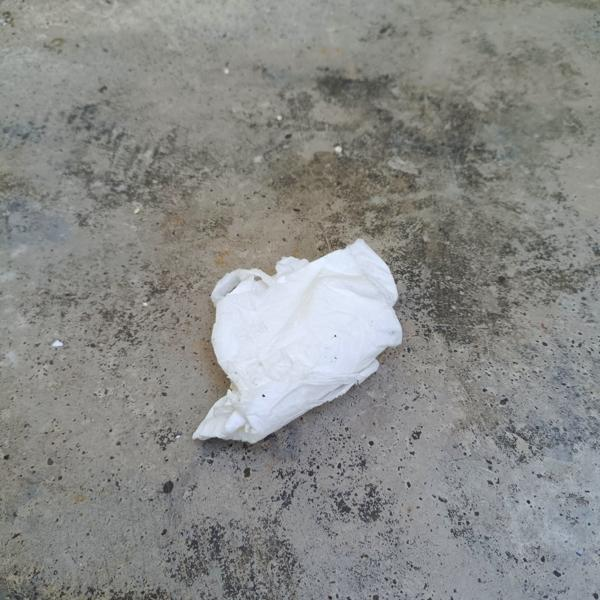Organik: (203, 215, 412, 468)
